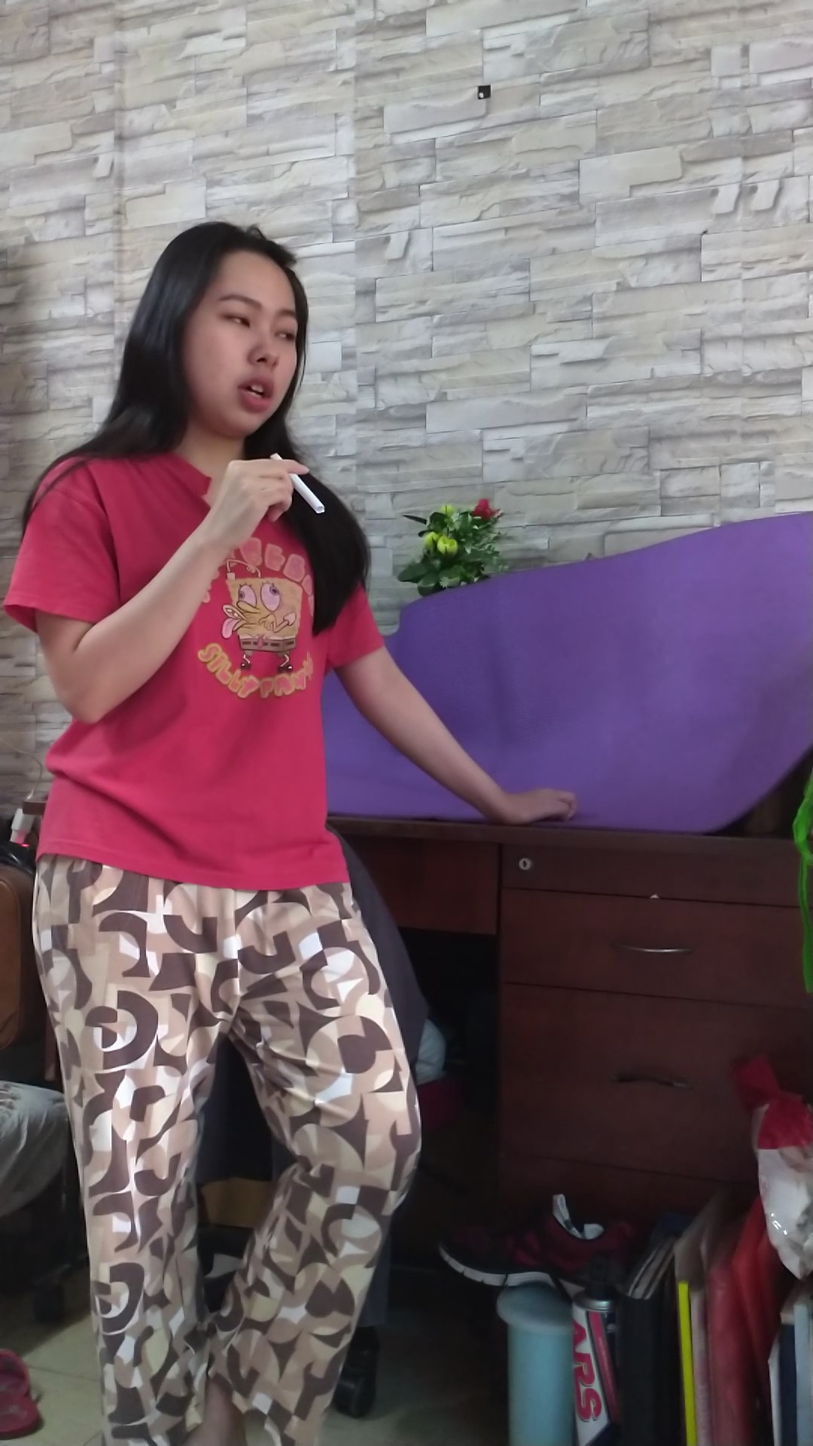cigarette: (288, 469, 336, 526)
person: (12, 211, 522, 1436)
